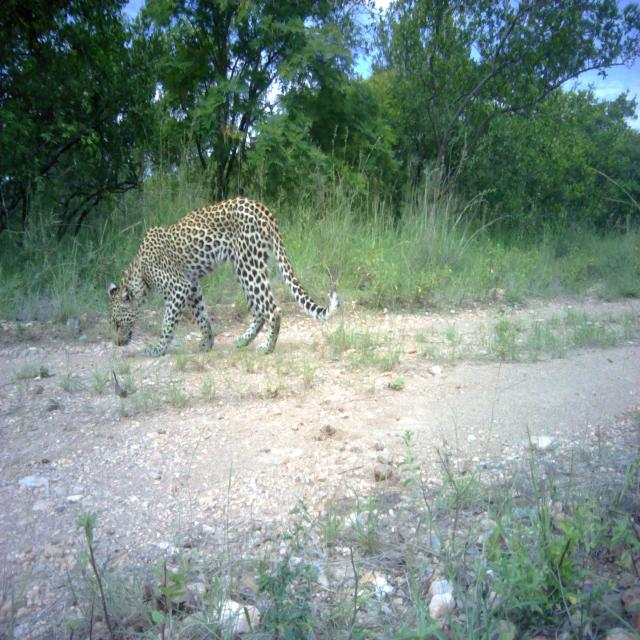Leopard: (105, 183, 346, 375)
